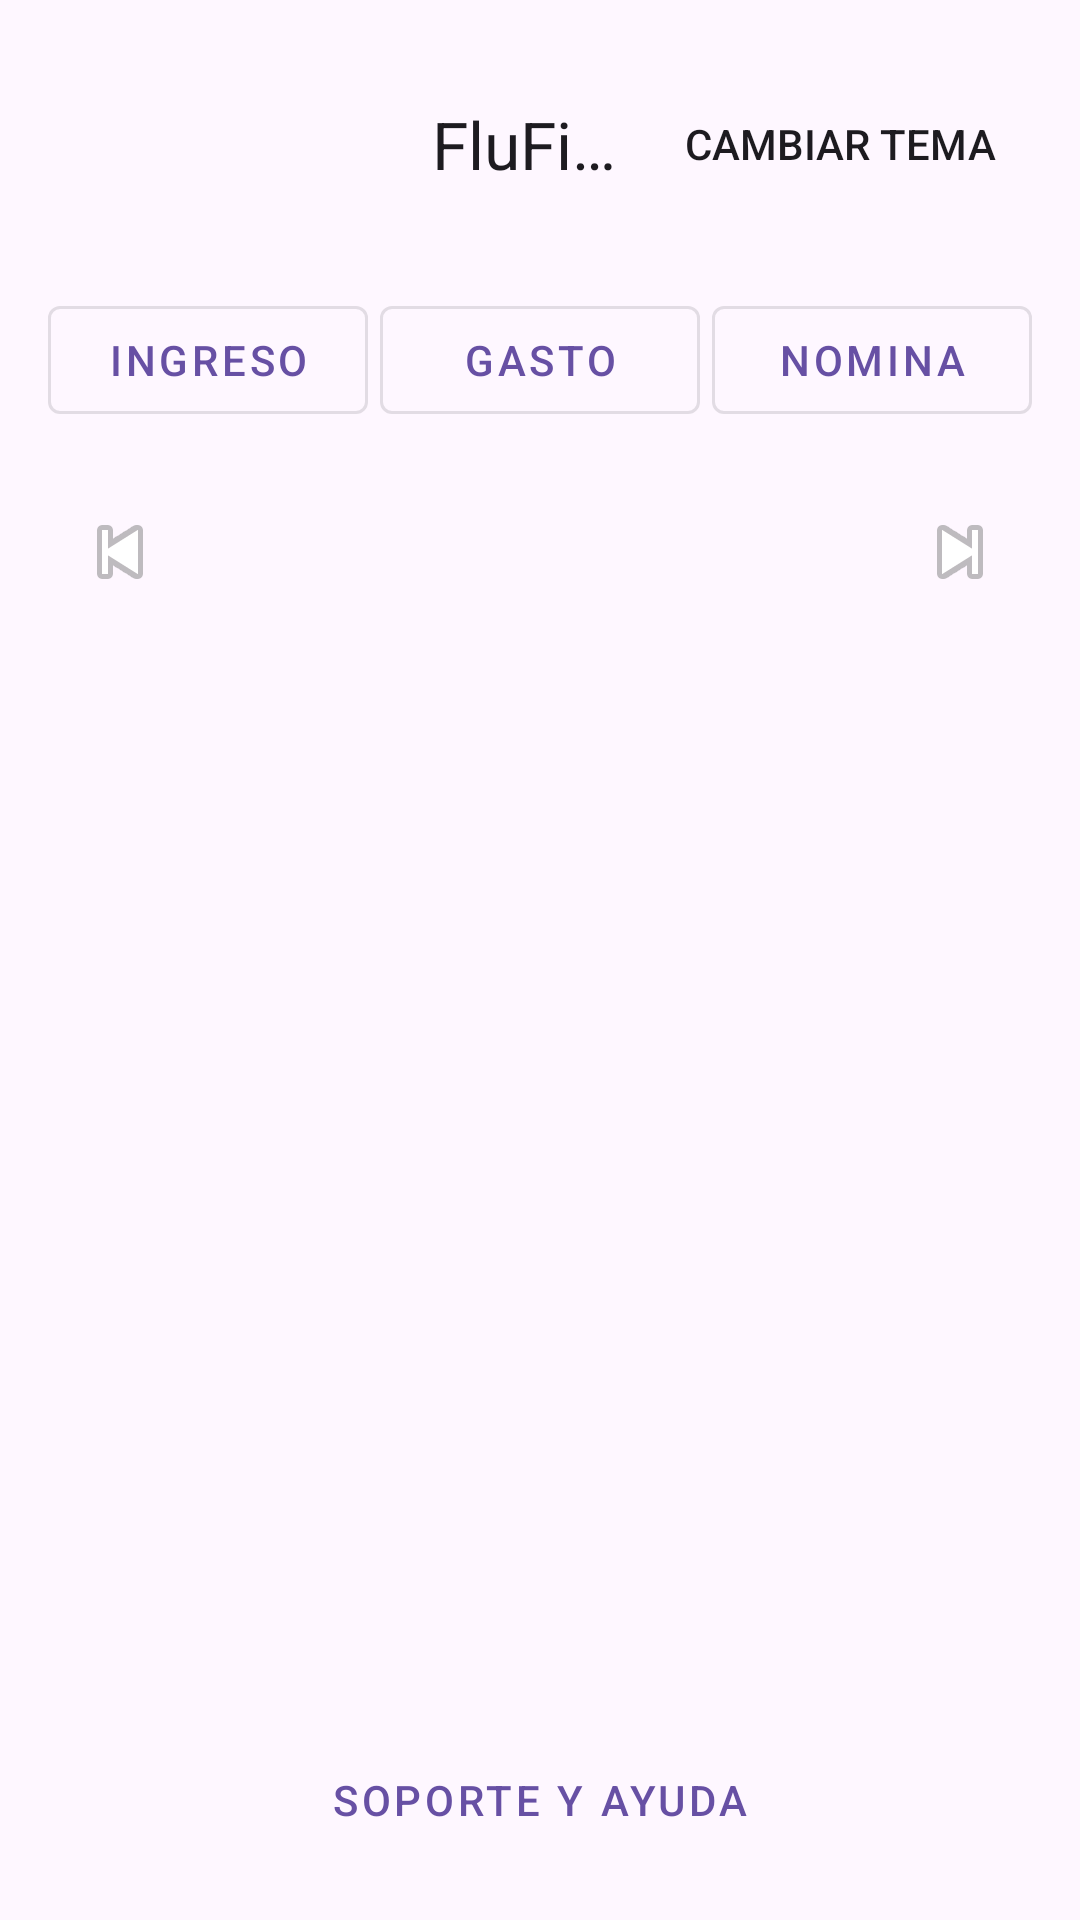

Point at icon controls on the screen. Image size 1080 × 1920, points as point (x, y).
next: point (960, 552)
previous: point (120, 552)
